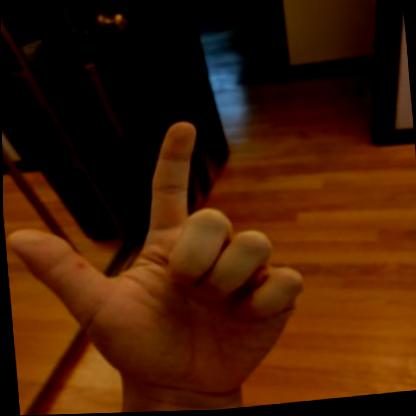L: (1, 101, 326, 416)
